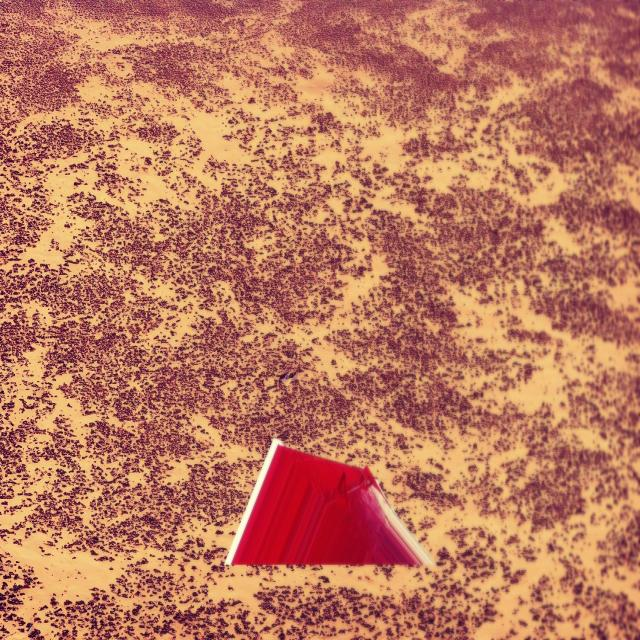airplane: (224, 438, 436, 568)
